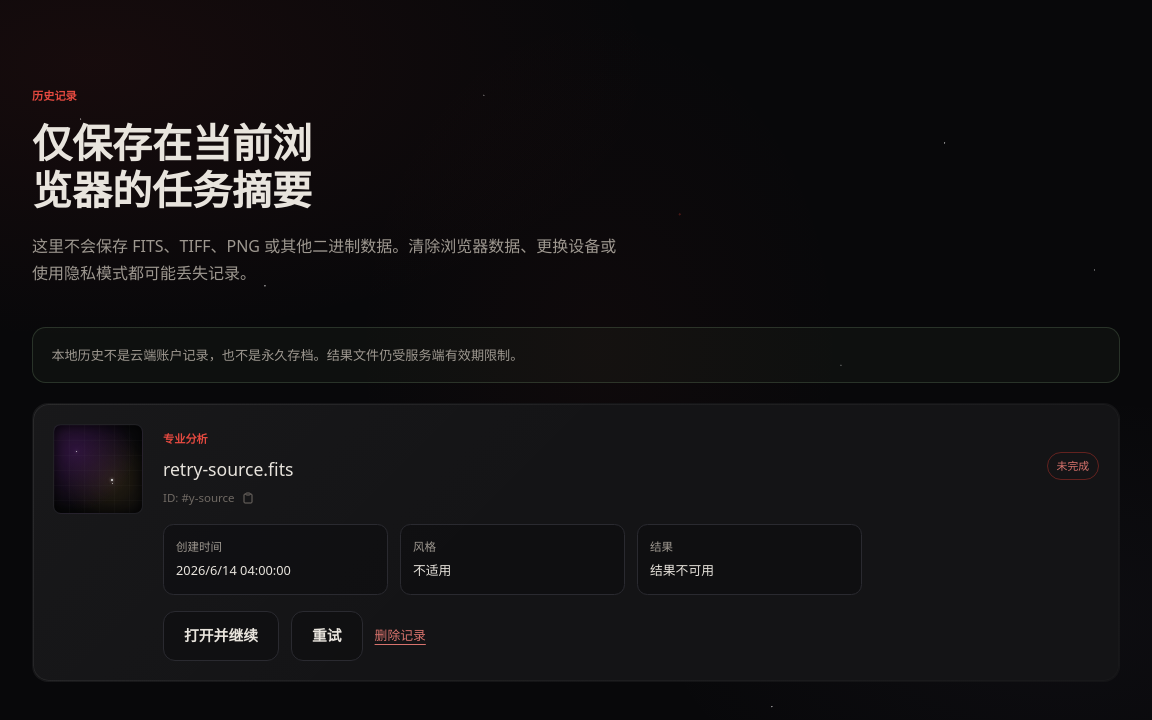
Test: Task 11 flows › shows the retried task even when persisting its history fails
Step 1. Click the button "重试" → (327, 636), box [291,611,363,661]
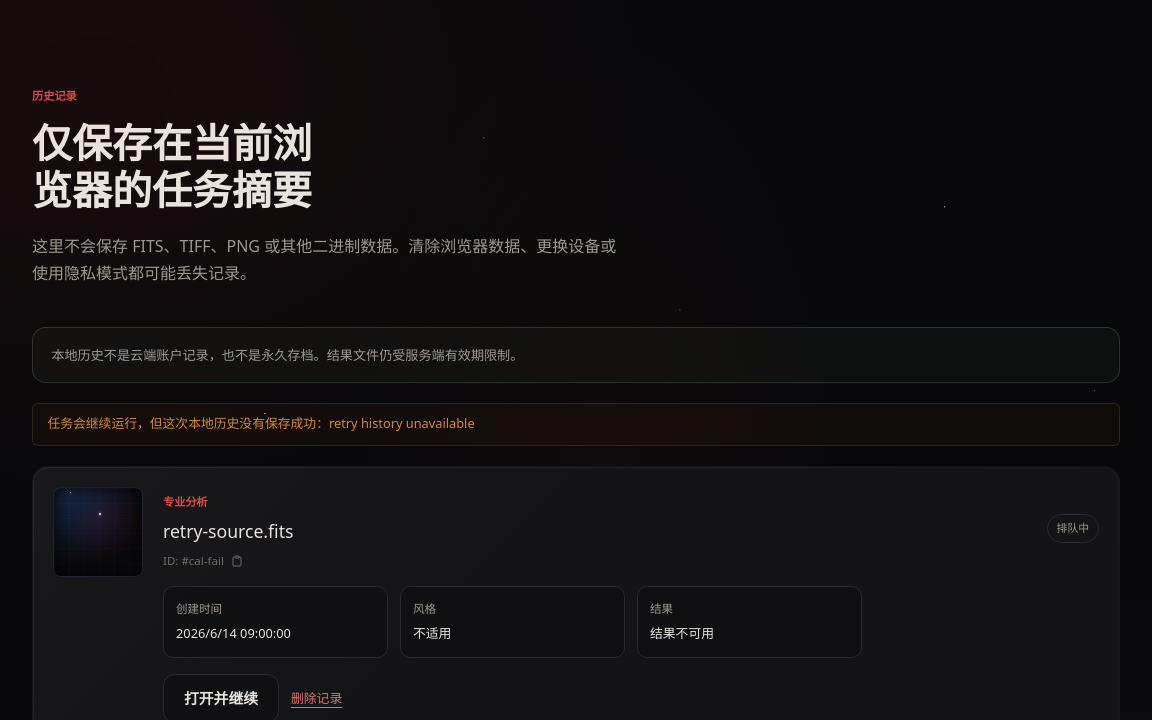
Expected: the text "任务会继续运行，但这次本地历史没有保存成功：retry history unavailable" is shown, [32,403,1120,446]
